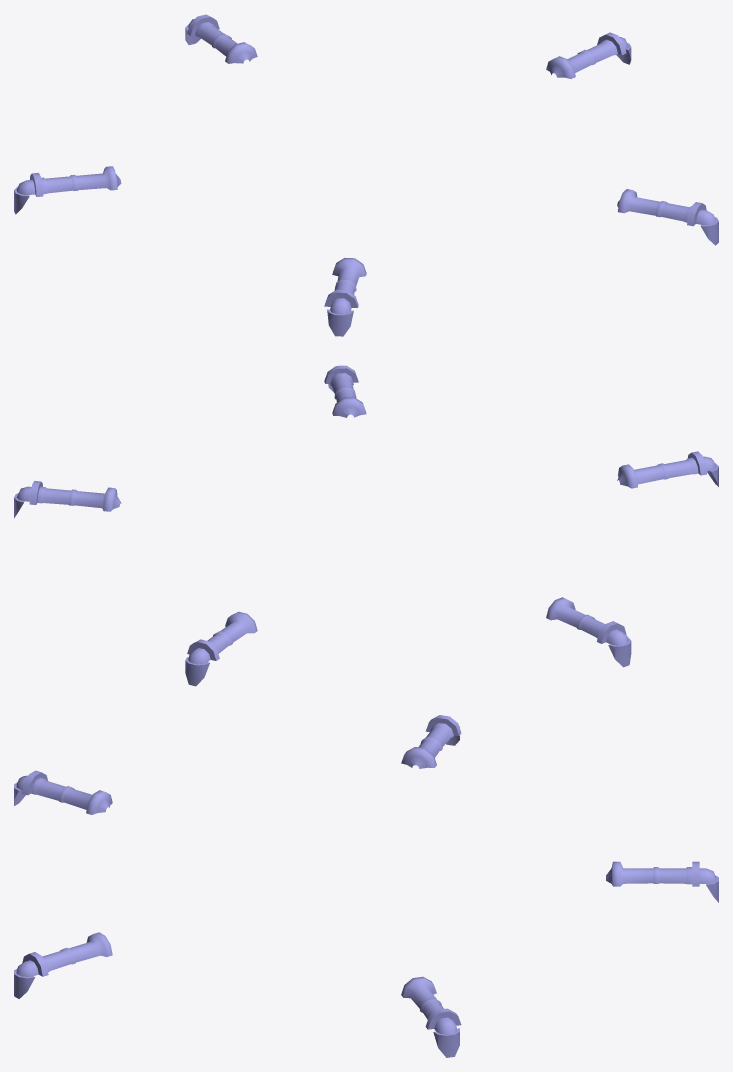
File: powerPipe_low.fbx
3 views of the same model, one above another, from view 1: azimuth 30°, elevation 25°; view 2: azimuth 150°, elevation 25°; view 3: azimuth 270°, elevation 25° (orthographic). The views are drawn at different scales.
Parts seen in each view (by area): view 1: powerPipe_low; view 2: powerPipe_low; view 3: powerPipe_low.
Part boxes in pixels (bbox=[...]): powerPipe_low: bbox=[14, 14, 718, 336]; powerPipe_low: bbox=[14, 365, 718, 686]; powerPipe_low: bbox=[14, 715, 718, 1057].
Bounding box in the file's own units: 706 × 39.3 × 671.
